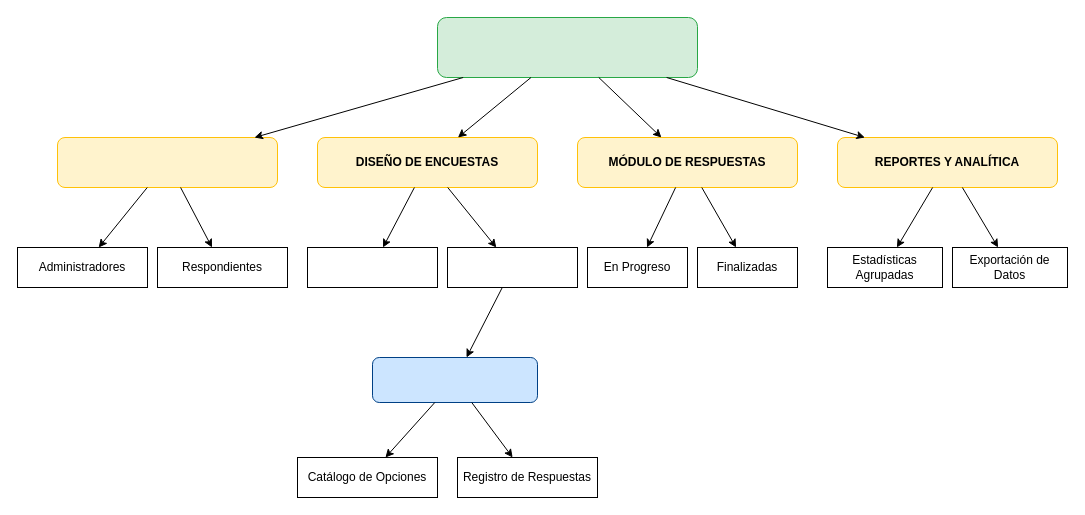
The diagram is 1085 pixels wide and 515 high, and some of its shapes have lost their labels. Each missing label, with the centre of its shape:
"Categorías y Plantillas" belongs at [372,267].
"GESTIÓN DE USUARIOS" belongs at [167,162].
"Preguntas Opción Múltiple" belongs at [455,379].
"Secciones de Encuesta" belongs at [512,267].
"SISTEMA DE ENCUESTAS" belongs at [567,47].
